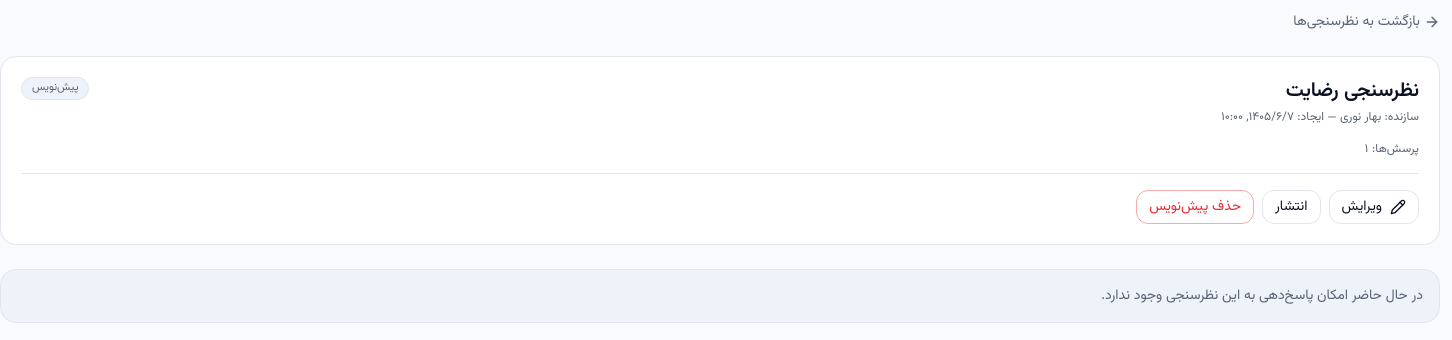
Scenario: CoreSurveyDetailView › lifecycle, privacy and error states › sends the chosen transition and adopts the server’s returned survey
Click the button with test id "survey-transition-PUBLISHED". click: x=1291, y=207
box: [1262, 190, 1320, 224]
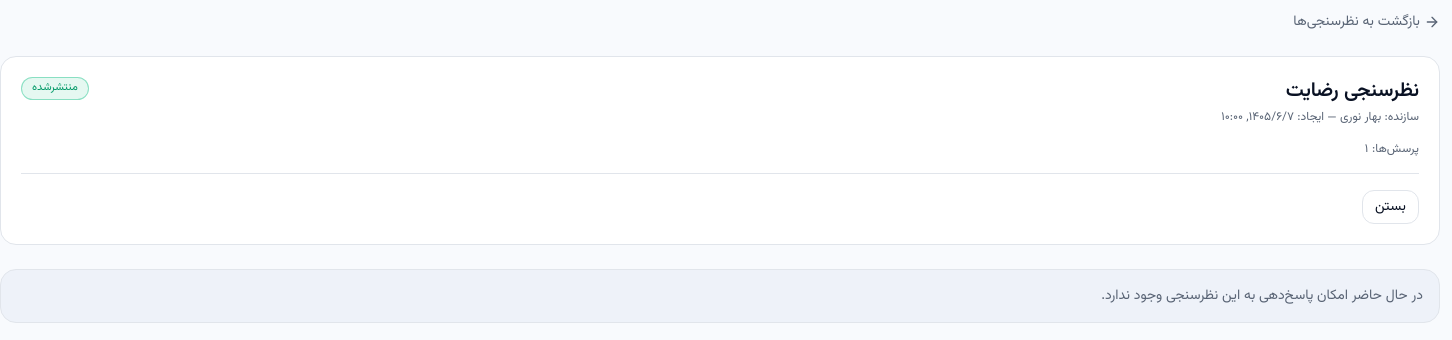
Check: the button with test id "survey-transition-CLOSED" is shown, box [1362, 190, 1419, 224]
